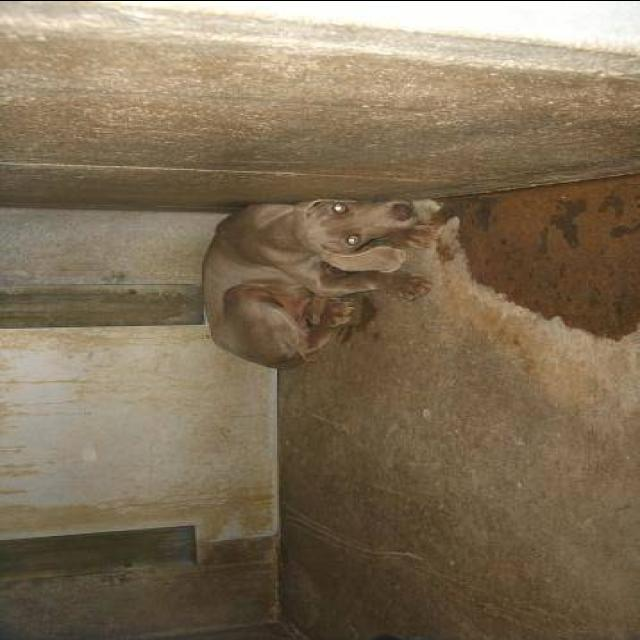dog: (179, 185, 477, 382)
